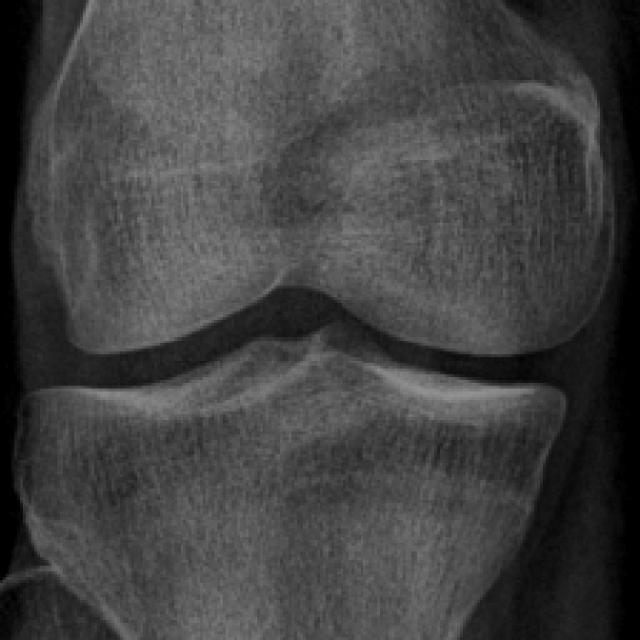femur: (43, 1, 600, 351)
tibia: (20, 331, 560, 637)
